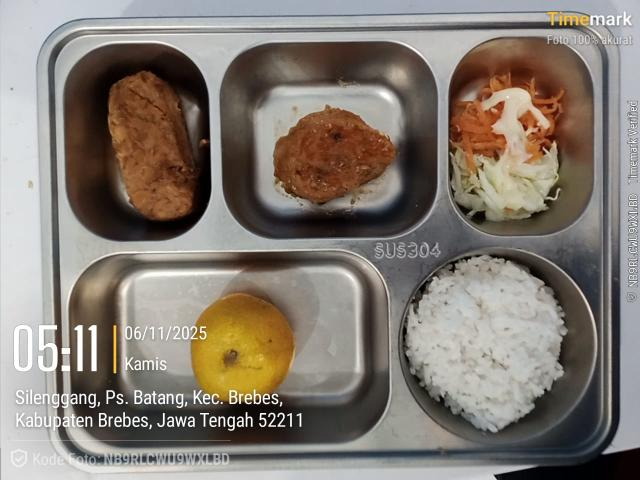ayam: (274, 105, 396, 203)
buah: (191, 293, 295, 404)
nasi: (406, 256, 566, 432)
sayur: (450, 74, 564, 221)
tempe: (108, 71, 198, 220)
